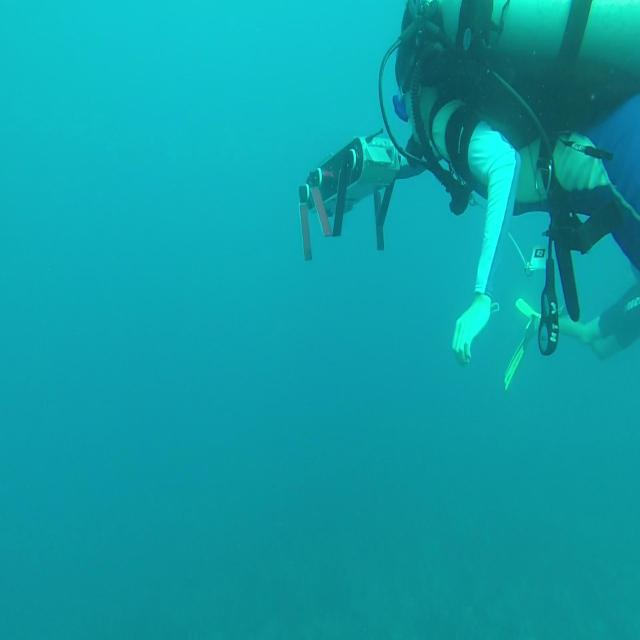human: (392, 1, 639, 370)
